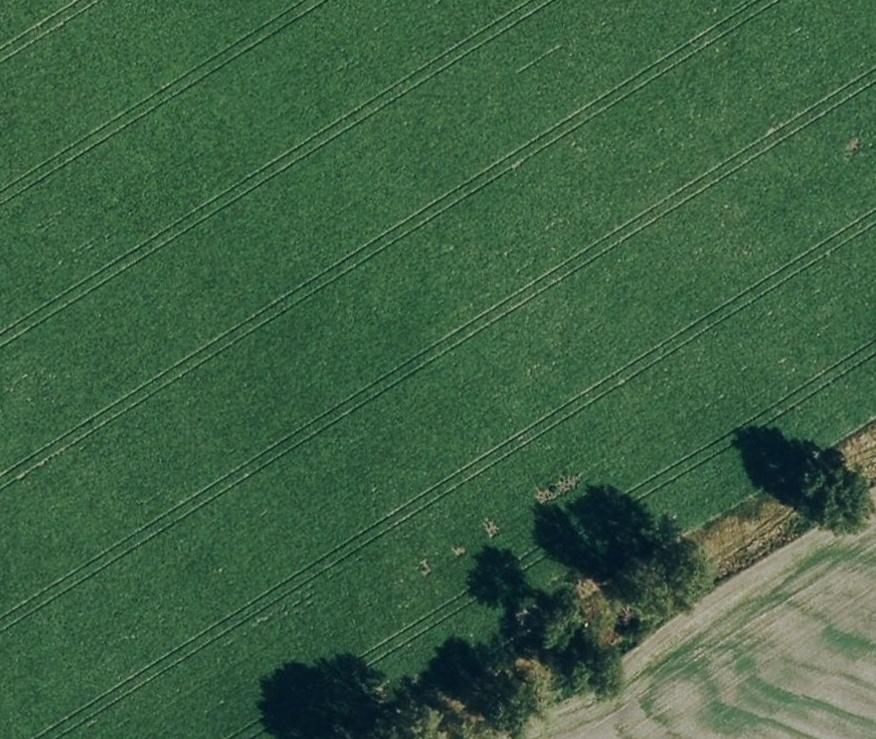field: (0, 0, 876, 736), (527, 515, 876, 737)
forest: (382, 517, 712, 737)
